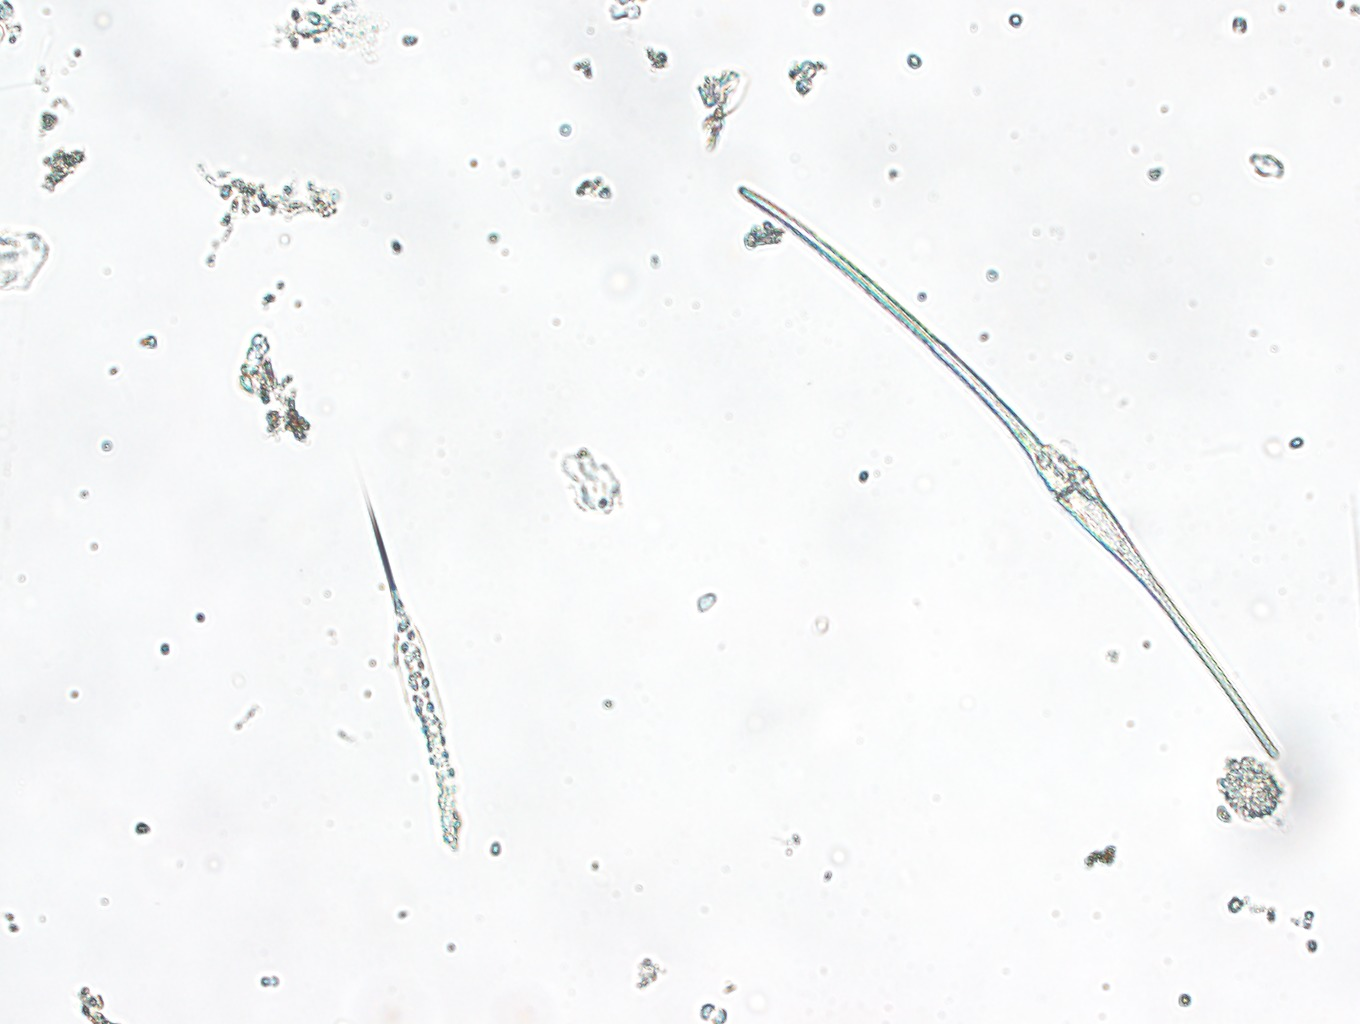ceratium fusus: (730, 183, 1293, 760)
